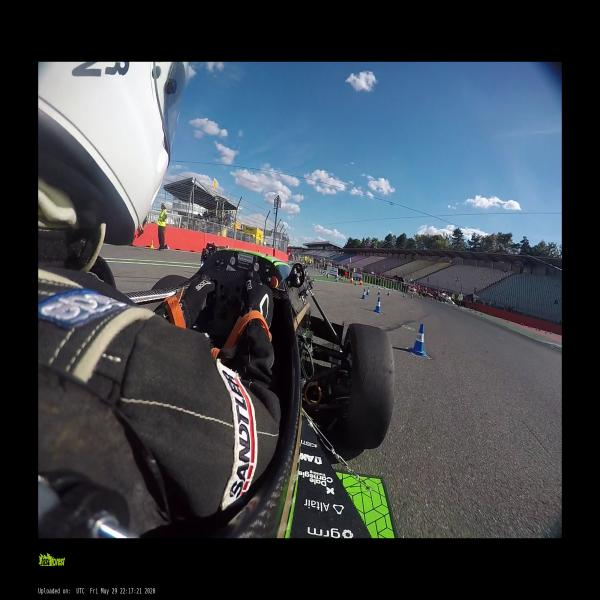blue_cone: (410, 324, 426, 356), (374, 297, 381, 313), (361, 289, 366, 300), (365, 287, 370, 295), (377, 288, 381, 295), (387, 290, 390, 296), (354, 280, 357, 286), (335, 276, 338, 282), (403, 293, 405, 297), (411, 294, 413, 298), (418, 295, 420, 299), (327, 274, 329, 278), (384, 286, 386, 290), (372, 284, 374, 288), (319, 270, 321, 273), (324, 272, 325, 276), (392, 288, 393, 291), (377, 285, 378, 288), (316, 268, 317, 271)
orange_cone: (350, 276, 353, 284), (359, 279, 362, 286)
yellow_cone: (150, 240, 154, 249)
